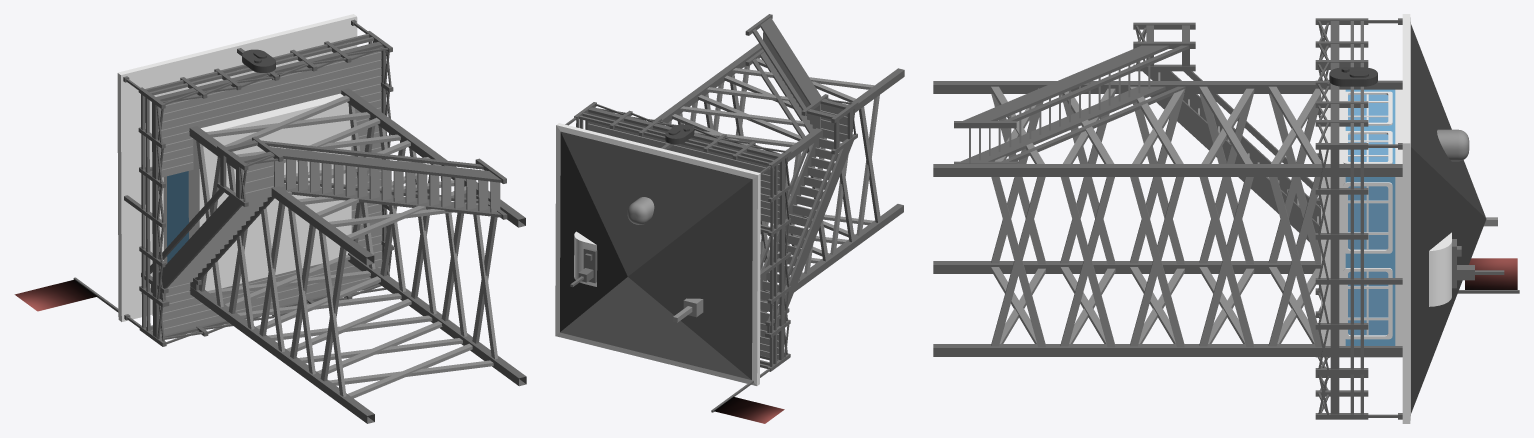
Rendered from Firewatch Tower.fbx.
3 views of the same model, side by side, from view 1: azimuth 30°, elevation 25°; view 2: azimuth 150°, elevation 25°; view 3: azimuth 270°, elevation 25° (orthographic). The views are drawn at different scales.
Parts seen in each view (by area): view 1: Fire Lookout Tower, Flag; view 2: Fire Lookout Tower, Flag; view 3: Fire Lookout Tower, Flag.
Boxes of the visible parts, x1=… form: Fire Lookout Tower: x1=73, y1=14, x2=526, y2=423; Flag: x1=14, y1=279, x2=97, y2=311; Fire Lookout Tower: x1=555, y1=14, x2=904, y2=412; Flag: x1=714, y1=396, x2=784, y2=423; Fire Lookout Tower: x1=933, y1=14, x2=1519, y2=423; Flag: x1=1465, y1=258, x2=1517, y2=289.
Size of the model in its own units: 1894 by 1567 by 2896.
